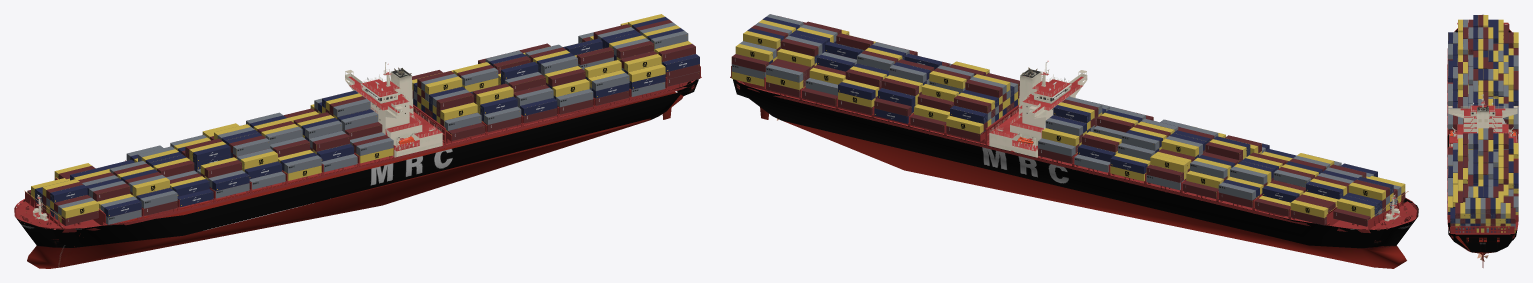
The model's file is container-ship.glb.
3 views of the same model, side by side, from view 1: azimuth 30°, elevation 25°; view 2: azimuth 150°, elevation 25°; view 3: azimuth 270°, elevation 25° (orthographic). The views are drawn at different scales.
Parts seen in each view (by area): view 1: Containers_Containers_0, Ship_Hull_0 (×2), Ship_Bridge_0 (×2); view 2: Containers_Containers_0, Ship_Hull_0 (×2), Ship_Bridge_0 (×2); view 3: Containers_Containers_0, Ship_Hull_0 (×2), Ship_Bridge_0 (×2).
Boxes of the visible parts, x1,y1,x2,y2 form: Containers_Containers_0: (27, 14, 699, 225); Ship_Hull_0 (×2): (14, 66, 701, 268); Ship_Bridge_0 (×2): (33, 62, 442, 220); Containers_Containers_0: (731, 14, 1405, 226); Ship_Hull_0 (×2): (730, 66, 1418, 268); Ship_Bridge_0 (×2): (989, 61, 1400, 221); Containers_Containers_0: (1448, 15, 1518, 233); Ship_Hull_0 (×2): (1447, 22, 1518, 267); Ship_Bridge_0 (×2): (1448, 14, 1517, 146).
Size of the model in its own units: 150 by 27.7 by 21.14.
3 materials, 3 textured.
